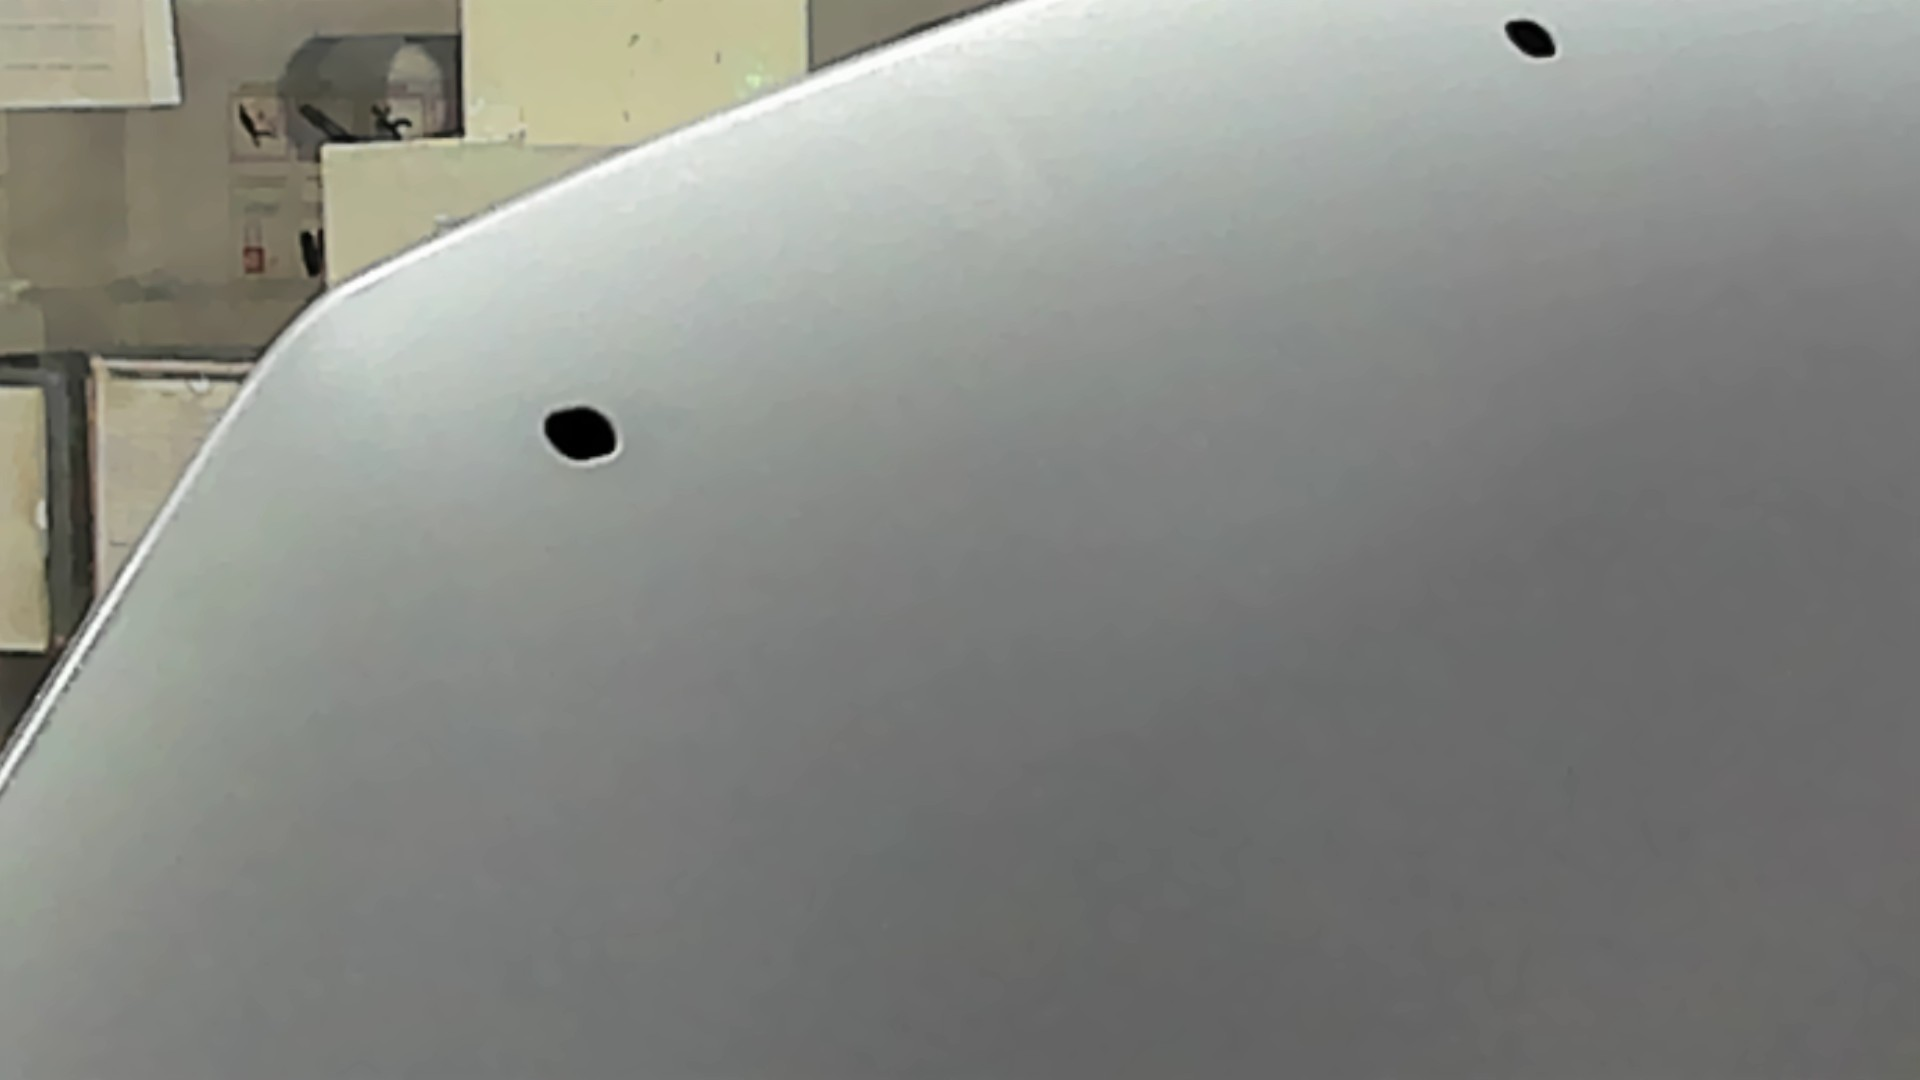chico: (531, 397, 633, 473), (1487, 9, 1568, 76)
